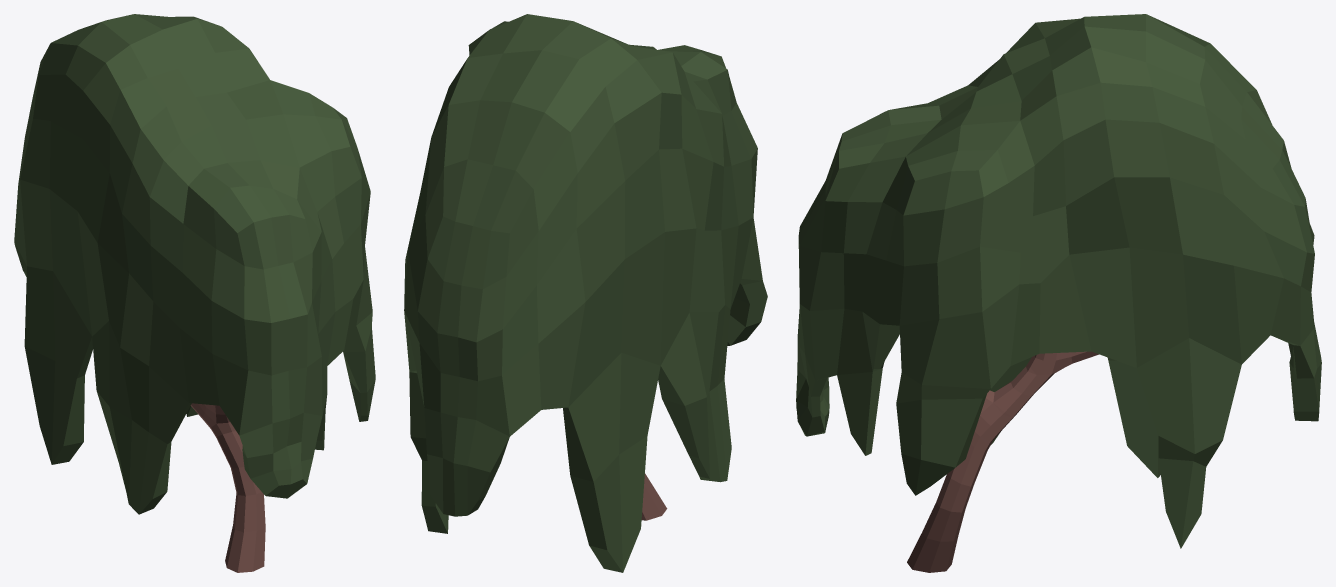
Rendered from willow_1.glb.
The picture shows the model from 3 angles, left to right: view 1: azimuth 30°, elevation 25°; view 2: azimuth 150°, elevation 25°; view 3: azimuth 270°, elevation 25°; orthographic projection. The views are drawn at different scales.
Visible parts, largest first — view 1: willow_1; view 2: willow_1; view 3: willow_1.
Boxes of the visible parts, bbox=[...] form: willow_1: bbox=[14, 14, 375, 572]; willow_1: bbox=[404, 14, 767, 572]; willow_1: bbox=[796, 14, 1321, 572].
Size of the model in its own units: 1.45 by 2.85 by 2.55.
1 material, 1 textured.
